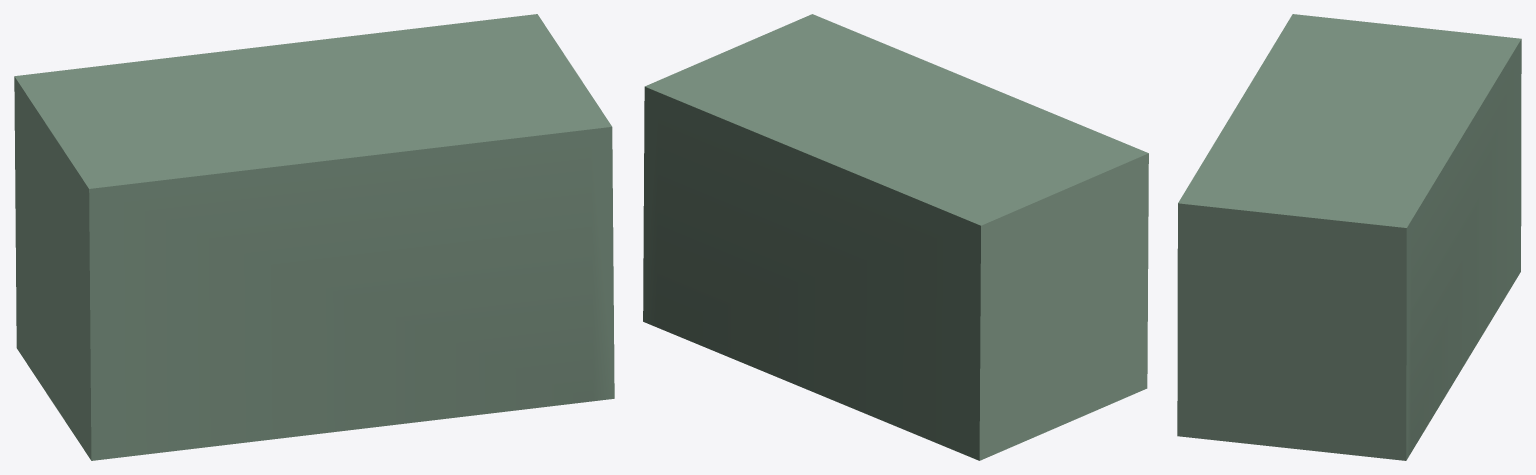
File: MSH_QuestObject_cabinet_09.fbx
3 views of the same model, side by side, from view 1: azimuth 30°, elevation 25°; view 2: azimuth 150°, elevation 25°; view 3: azimuth 270°, elevation 25° (orthographic). The views are drawn at different scales.
Parts seen in each view (by area): view 1: MSH_QuestObject_cabinet_09; view 2: MSH_QuestObject_cabinet_09; view 3: MSH_QuestObject_cabinet_09.
Boxes of the visible parts, box(x1,y1,x2,y2) form: MSH_QuestObject_cabinet_09: box(14, 14, 614, 460); MSH_QuestObject_cabinet_09: box(643, 14, 1148, 460); MSH_QuestObject_cabinet_09: box(1177, 14, 1521, 460).
Bounding box in the file's own units: 1.71 × 0.8623 × 1.16.
